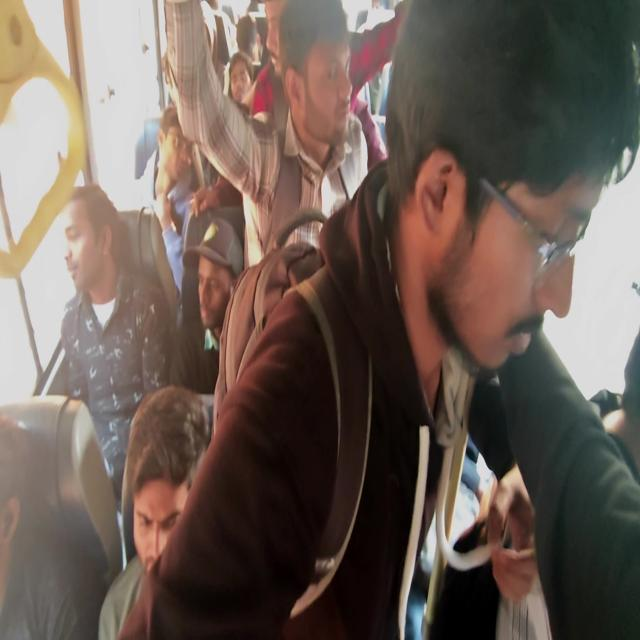person: (407, 22, 590, 396), (124, 408, 202, 572), (282, 24, 364, 137), (60, 203, 134, 294), (0, 398, 33, 572), (605, 331, 640, 479), (152, 128, 199, 192), (161, 54, 207, 113), (266, 3, 302, 78), (196, 245, 232, 318), (230, 61, 260, 108), (238, 23, 264, 66), (209, 1, 232, 20), (245, 3, 270, 18)
